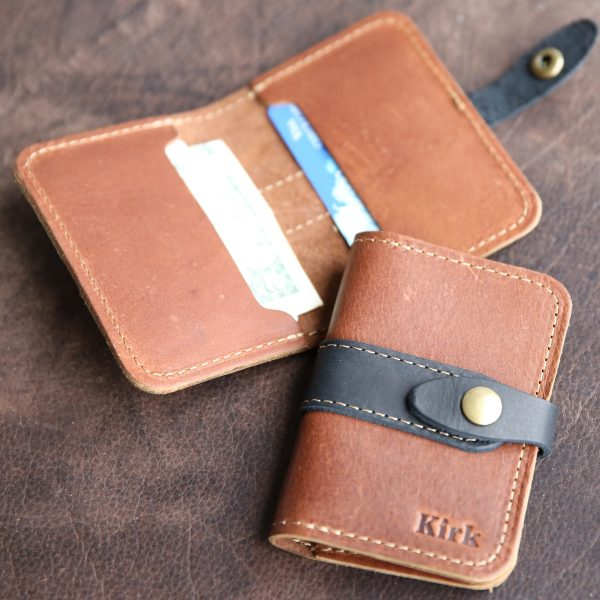monedero: (13, 6, 548, 397), (265, 227, 575, 594)
